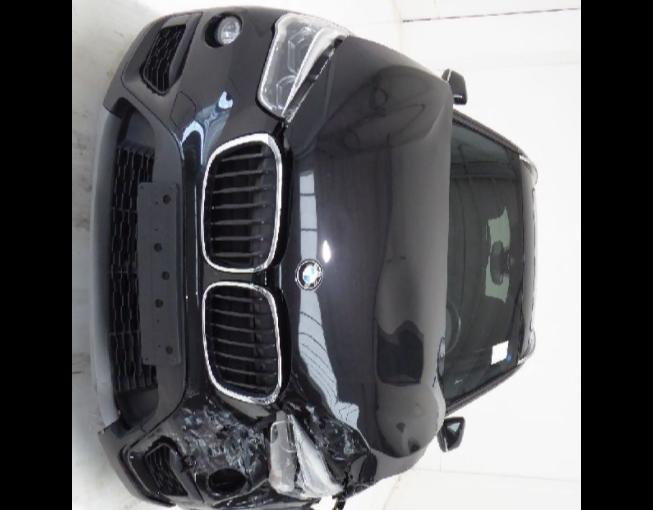Broken part: (92, 368, 380, 510), (266, 34, 348, 270), (270, 412, 342, 498), (262, 284, 294, 394)
Dent: (172, 392, 292, 510), (268, 356, 372, 470)
Missing part: (134, 180, 178, 366), (210, 468, 243, 494)
